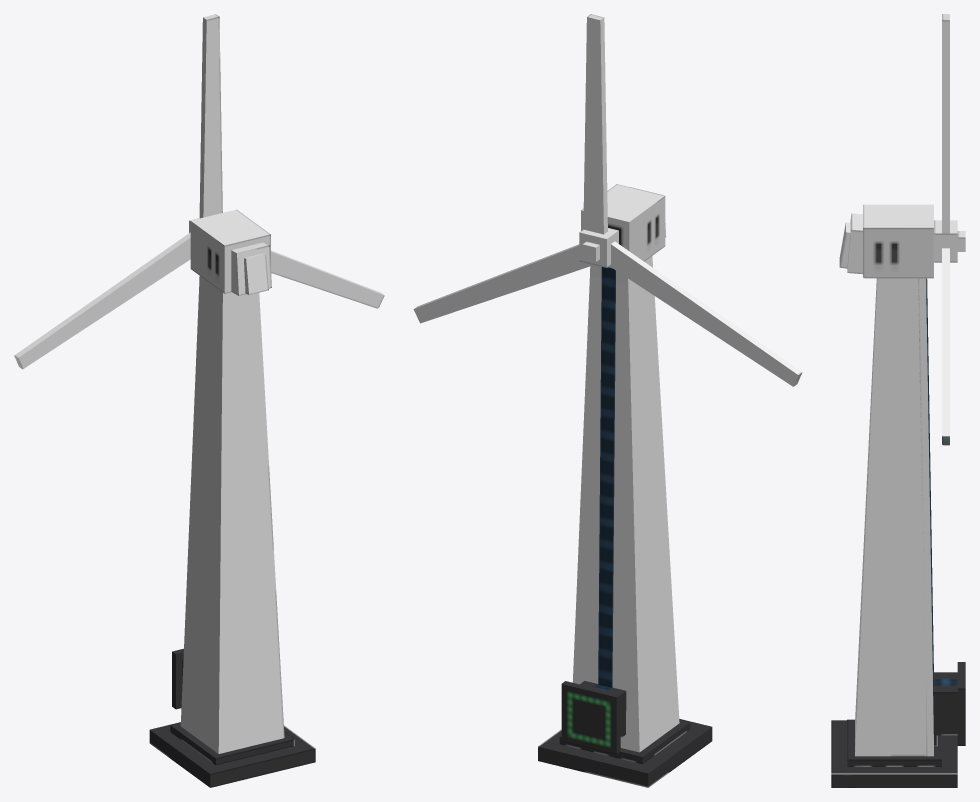
Rendered from wind_generator_item.obj.
The picture shows the model from 3 angles, left to right: view 1: azimuth 30°, elevation 25°; view 2: azimuth 150°, elevation 25°; view 3: azimuth 270°, elevation 25°; orthographic projection. The views are drawn at different scales.
Parts seen in each view (by area): view 1: rightitem, ASINHA2, ASINHA, ASINHA3; view 2: rightitem, ASINHA2, ASINHA, ASINHA3; view 3: rightitem, ASINHA, ASINHA3.
Boxes of the visible parts, box(x1,y1,x2,y2) form: rightitem: box(149, 209, 315, 787); ASINHA2: box(14, 232, 190, 369); ASINHA: box(199, 14, 222, 218); ASINHA3: box(271, 250, 384, 308); rightitem: box(538, 184, 712, 787); ASINHA2: box(609, 241, 802, 386); ASINHA: box(583, 14, 607, 234); ASINHA3: box(413, 244, 593, 323); rightitem: box(831, 204, 965, 787); ASINHA: box(942, 14, 949, 233); ASINHA3: box(942, 248, 949, 445).
Bounding box in the file's own units: 3.48 × 6.5 × 1.06.
Materials: 1 (1 with a texture image).
